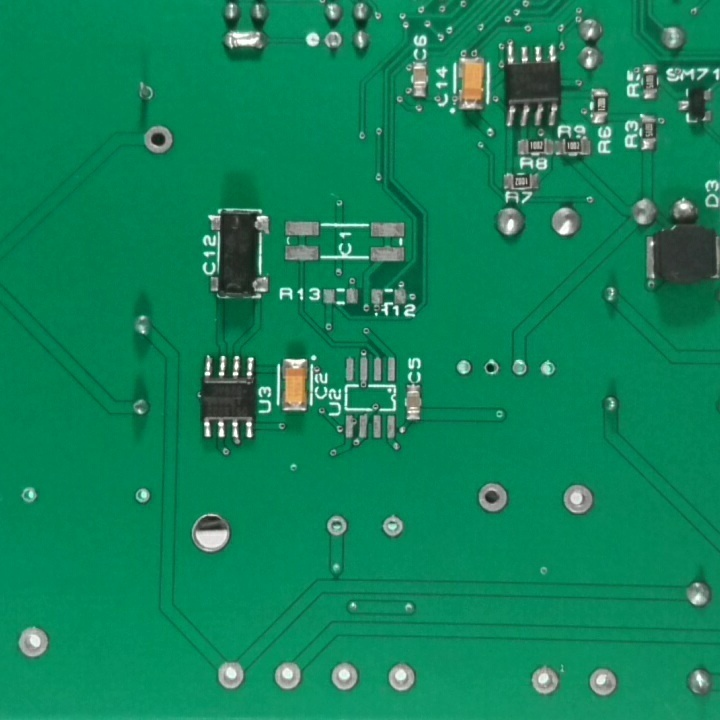F: (11, 623, 50, 662), (527, 662, 562, 699), (383, 660, 416, 699), (475, 481, 511, 516), (561, 483, 596, 519), (327, 659, 361, 695), (587, 663, 619, 700), (270, 657, 303, 692), (142, 122, 174, 157), (218, 660, 247, 692), (379, 512, 406, 541), (321, 516, 350, 541), (134, 80, 157, 106), (453, 357, 476, 383), (131, 486, 154, 510), (539, 358, 561, 383), (508, 357, 531, 380), (322, 29, 343, 53), (19, 487, 41, 506), (482, 357, 500, 380)
P: (219, 27, 270, 55)
